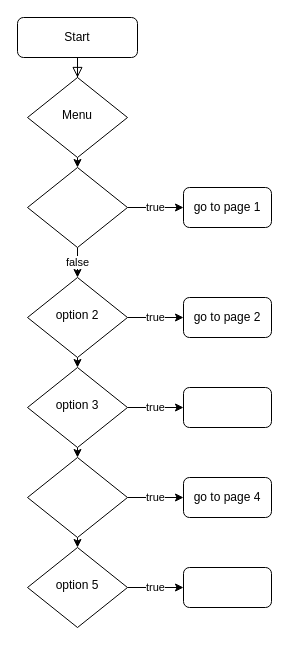
Image size: 289x645. Some labels were removed from this diagram. The box of each missing label's shape, as (x1, y1, x2, y2) in pixels:
Exit: (182, 566, 272, 608)
go to page 3: (182, 386, 272, 428)
Option 1: (26, 166, 128, 248)
option 4: (26, 456, 128, 538)
